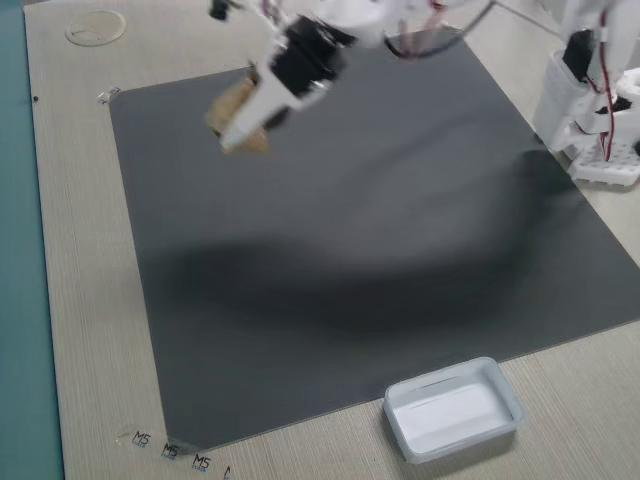objects: (204, 21, 360, 154)
